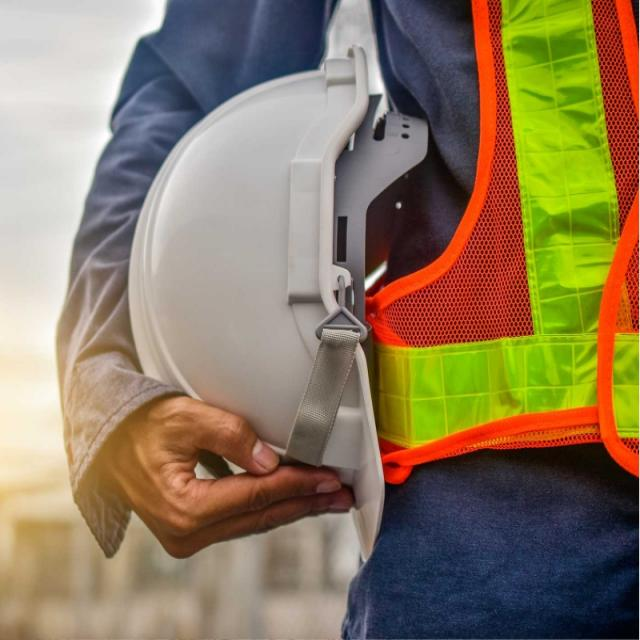Reflective-Jacket: (356, 1, 640, 487)
Safety-Helmet: (125, 40, 407, 560)
